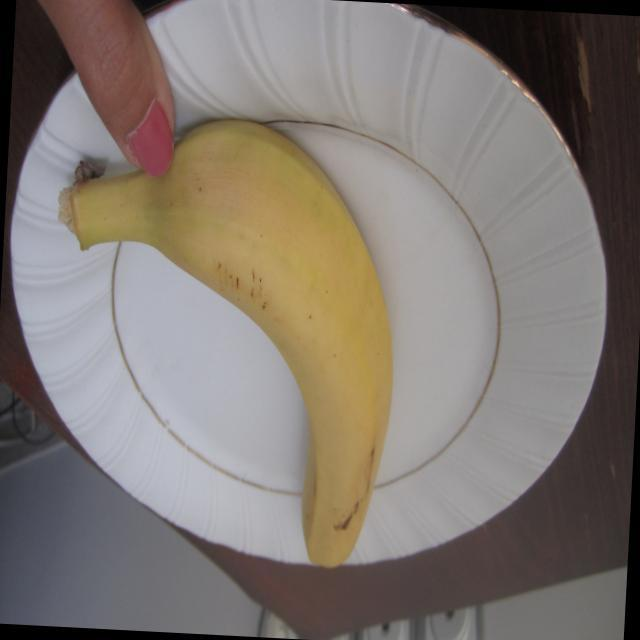Banana: (39, 101, 414, 576)
Finger: (34, 0, 198, 187)
